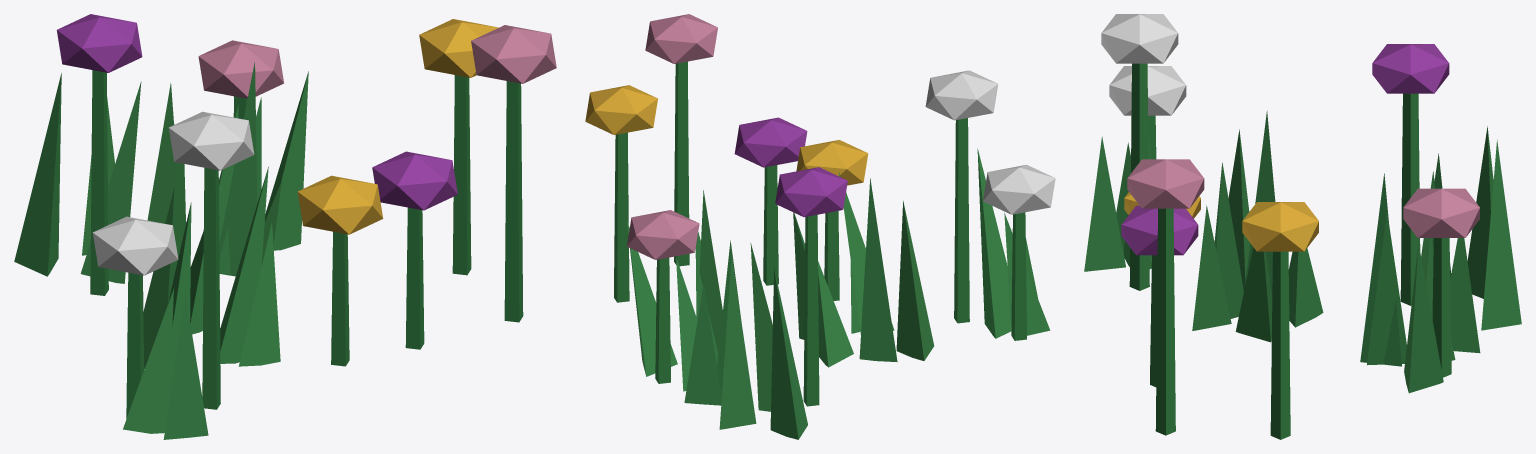
File: wildflowers.glb
3 views of the same model, side by side, from view 1: azimuth 30°, elevation 25°; view 2: azimuth 150°, elevation 25°; view 3: azimuth 270°, elevation 25° (orthographic). The views are drawn at different scales.
Parts seen in each view (by area): view 1: wildflowers; view 2: wildflowers; view 3: wildflowers.
Part boxes in pixels (x1,y1,x2,y2): wildflowers: (14,14,556,439); wildflowers: (585,14,1055,439); wildflowers: (1084,14,1521,439).
Size of the model in its own units: 1.02 by 0.5993 by 0.8721.
